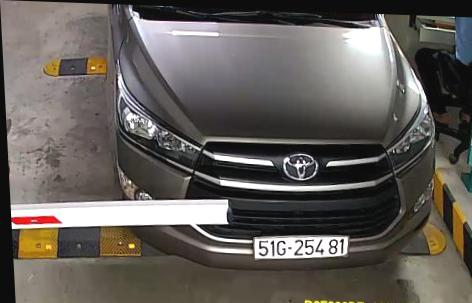License_Plate: (249, 228, 350, 263)
